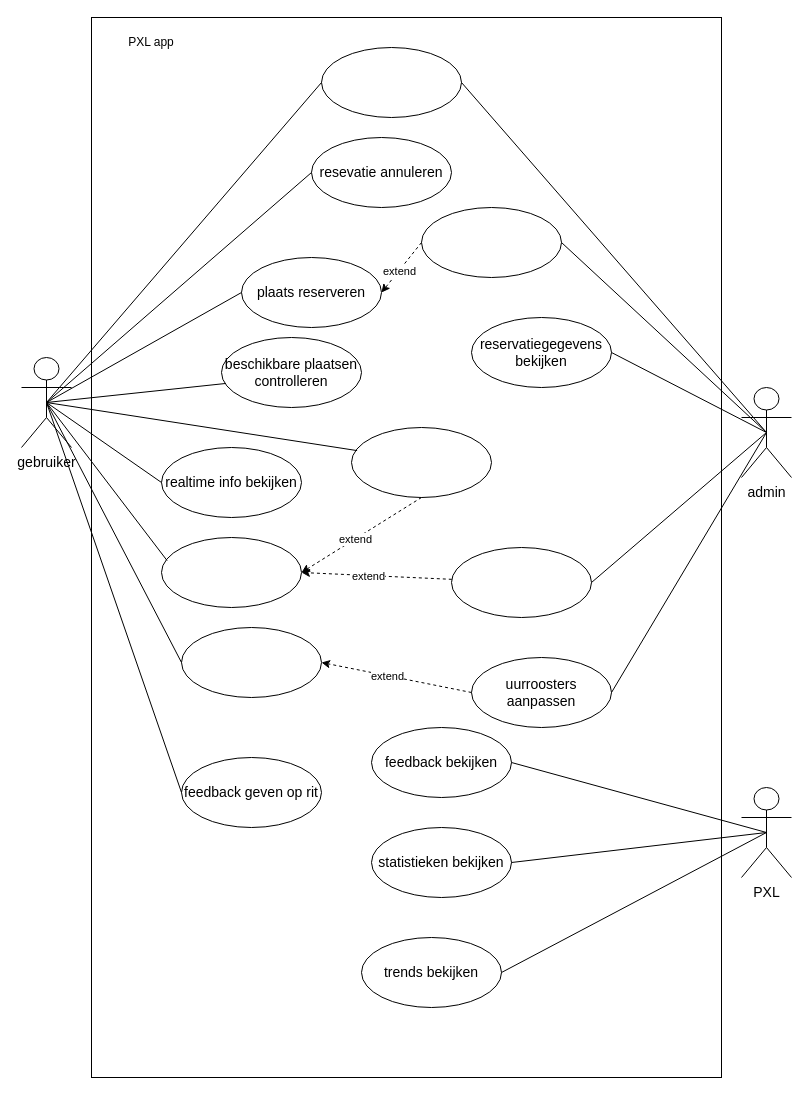
The diagram is 809 pixels wide and 1095 high, and some of its shapes have lost their labels. The shapes that lost their labels are listed below. From the top down, each one's box as (x1, y1, x2, y2) in pixels, then its label:
(320, 46, 462, 118): inloggen
(420, 206, 562, 278): aanpassen shuttle capaciteit
(350, 426, 492, 498): voorkeursroutes opslaan
(160, 536, 302, 608): routes bekijken
(450, 546, 592, 618): routes aanpassen
(180, 626, 322, 698): uurrooster bekijken
